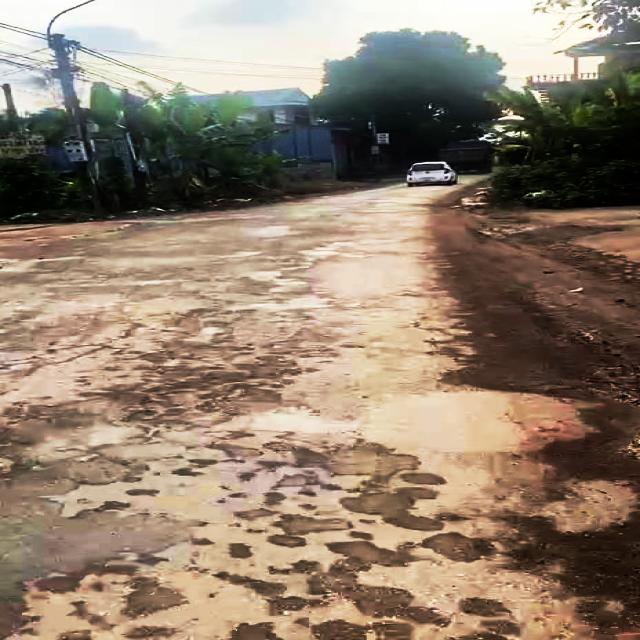pothole: (502, 510, 640, 639)
